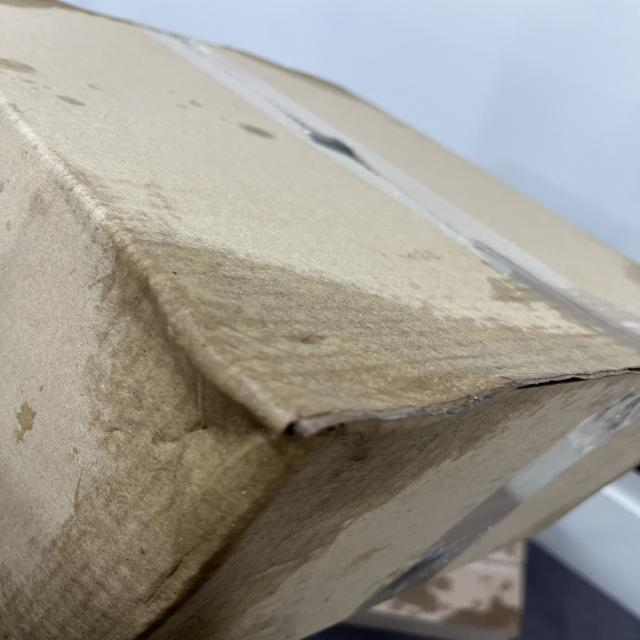wet: (0, 239, 546, 636)
